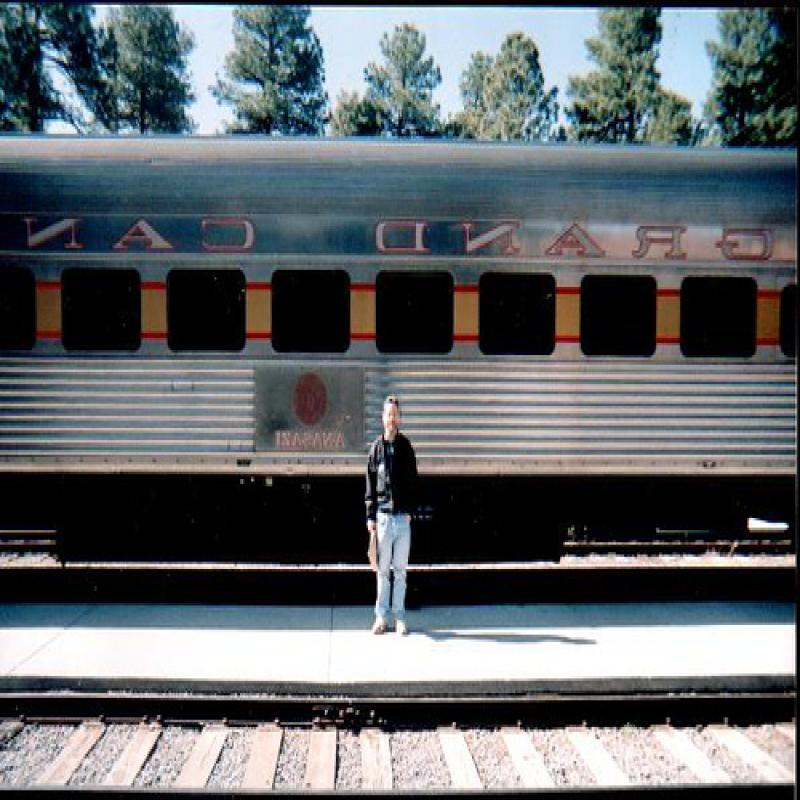train: (2, 132, 800, 565)
